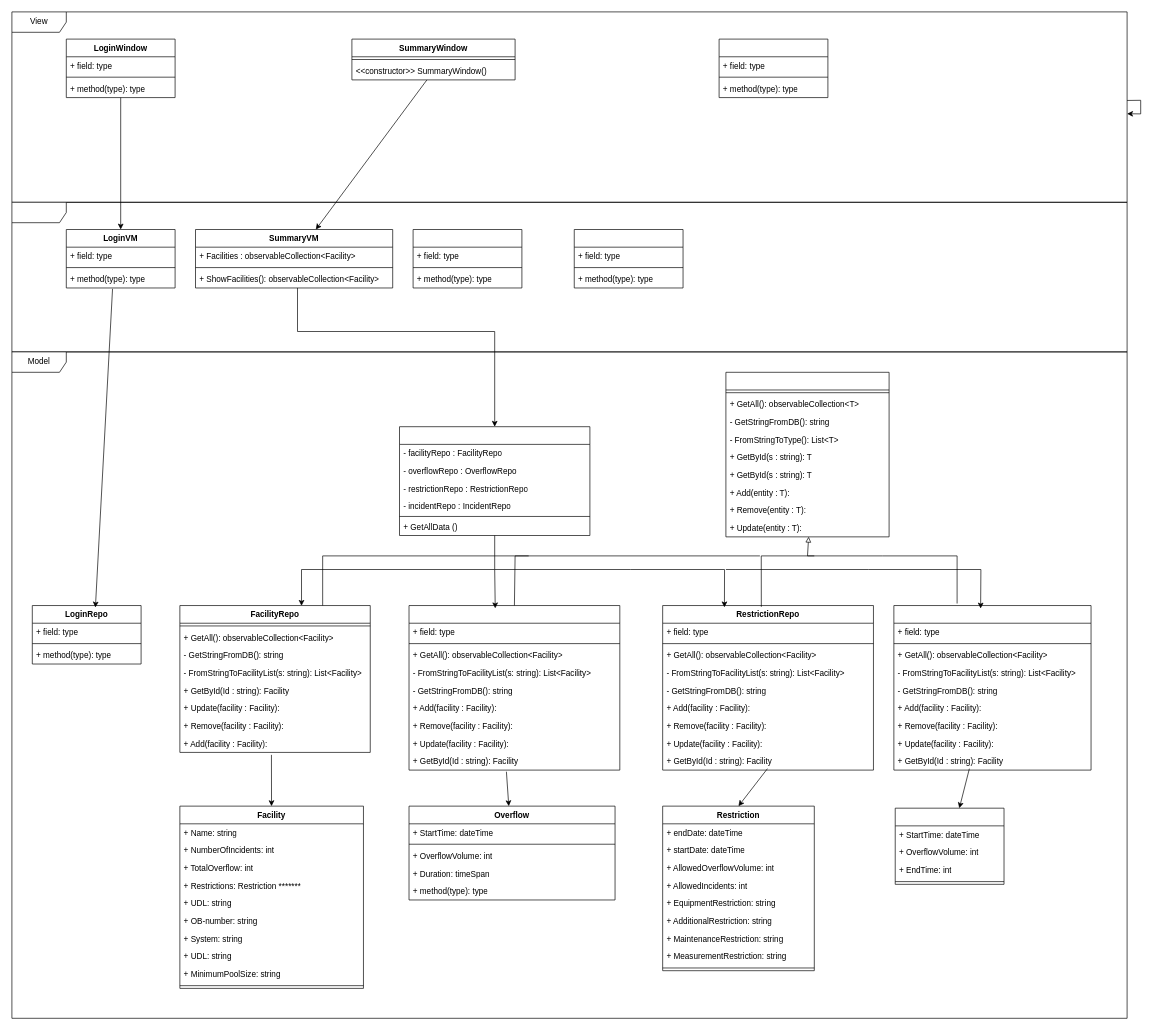
Image size: 1158x1030. Some labels were removed from this diagram. The shapes that lost their labels are listed below. From the top down, each one's box as (x1, y1, x2, y2) in pixels, then its label:
(11, 202, 1127, 352): ViewModel
(725, 372, 889, 537): IRepository
(399, 426, 590, 536): FacilityService
(408, 605, 620, 770): OverflowRepo
(893, 605, 1091, 770): IncidentRepo
(895, 808, 1004, 884): Incident
